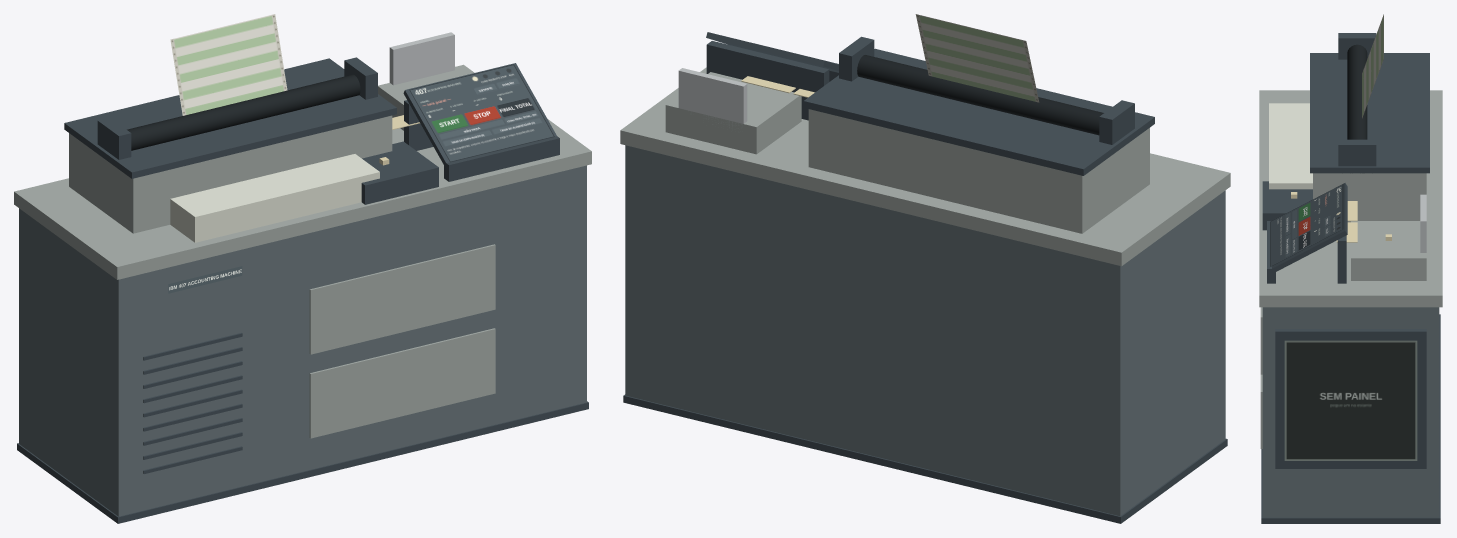
Rendered from 407-contabilizadora.glb.
The picture shows the model from 3 angles, left to right: view 1: azimuth 30°, elevation 25°; view 2: azimuth 150°, elevation 25°; view 3: azimuth 270°, elevation 25°; orthographic projection. The views are drawn at different scales.
Visible parts, largest first — view 1: 407-contabilizadora_peca_0, 407-contabilizadora_peca_2, 407-contabilizadora_peca_14, 407-contabilizadora_peca_13, 407-contabilizadora_peca_12, 407-contabilizadora_peca_15, 407-contabilizadora_peca_19, painel_tab, painel_paper, 407-contabilizadora_peca_16, 407-contabilizadora_peca_1, 407-contabilizadora_peca_22 (+8 smaller); view 2: 407-contabilizadora_peca_0, 407-contabilizadora_peca_2, 407-contabilizadora_peca_14, 407-contabilizadora_peca_15, painel_paper, 407-contabilizadora_peca_20, 407-contabilizadora_peca_16, 407-contabilizadora_peca_1, 407-contabilizadora_peca_25, 407-contabilizadora_peca_21, 407-contabilizadora_peca_17, 407-contabilizadora_peca_23 (+1 smaller); view 3: 407-contabilizadora_peca_0, painel_cp407, 407-contabilizadora_peca_2, 407-contabilizadora_peca_15, 407-contabilizadora_peca_27, 407-contabilizadora_peca_20, 407-contabilizadora_peca_14, 407-contabilizadora_peca_19, painel_tab, 407-contabilizadora_peca_1, 407-contabilizadora_peca_16, 407-contabilizadora_peca_22 (+9 smaller).
Boxes of the visible parts, left/top/right/bottom form: 407-contabilizadora_peca_0: left=19, top=165, right=586, bottom=516; 407-contabilizadora_peca_2: left=14, top=119, right=591, bottom=279; 407-contabilizadora_peca_14: left=69, top=115, right=392, bottom=233; 407-contabilizadora_peca_13: left=309, top=328, right=495, bottom=438; 407-contabilizadora_peca_12: left=309, top=244, right=495, bottom=354; 407-contabilizadora_peca_15: left=64, top=58, right=396, bottom=178; 407-contabilizadora_peca_19: left=170, top=154, right=379, bottom=242; painel_tab: left=409, top=64, right=554, bottom=162; painel_paper: left=170, top=14, right=287, bottom=115; 407-contabilizadora_peca_16: left=127, top=74, right=360, bottom=150; 407-contabilizadora_peca_1: left=17, top=401, right=588, bottom=523; 407-contabilizadora_peca_22: left=361, top=141, right=438, bottom=204; 407-contabilizadora_peca_0: left=625, top=145, right=1225, bottom=516; 407-contabilizadora_peca_2: left=620, top=67, right=1230, bottom=266; 407-contabilizadora_peca_14: left=808, top=109, right=1149, bottom=233; 407-contabilizadora_peca_15: left=803, top=48, right=1154, bottom=175; painel_paper: left=915, top=14, right=1039, bottom=102; 407-contabilizadora_peca_20: left=665, top=72, right=801, bottom=154; 407-contabilizadora_peca_16: left=857, top=55, right=1103, bottom=135; 407-contabilizadora_peca_1: left=623, top=394, right=1227, bottom=523; 407-contabilizadora_peca_25: left=706, top=41, right=829, bottom=120; 407-contabilizadora_peca_21: left=678, top=68, right=747, bottom=128; 407-contabilizadora_peca_17: left=1099, top=100, right=1134, bottom=144; 407-contabilizadora_peca_23: left=706, top=32, right=838, bottom=72; 407-contabilizadora_peca_0: left=1262, top=307, right=1439, bottom=517; painel_cp407: left=1284, top=340, right=1417, bottom=460; 407-contabilizadora_peca_2: left=1259, top=90, right=1442, bottom=307; 407-contabilizadora_peca_15: left=1310, top=53, right=1429, bottom=173; 407-contabilizadora_peca_27: left=1275, top=329, right=1426, bottom=468; 407-contabilizadora_peca_20: left=1351, top=221, right=1426, bottom=280; 407-contabilizadora_peca_14: left=1313, top=173, right=1426, bottom=222; 407-contabilizadora_peca_19: left=1269, top=103, right=1312, bottom=189; painel_tab: left=1270, top=184, right=1343, bottom=266; 407-contabilizadora_peca_1: left=1261, top=314, right=1440, bottom=523; 407-contabilizadora_peca_16: left=1347, top=44, right=1367, bottom=139; 407-contabilizadora_peca_22: left=1262, top=181, right=1312, bottom=230.
Bounding box in the file's own units: 77.7 × 62.65 × 29.
11 materials, 4 textured.
